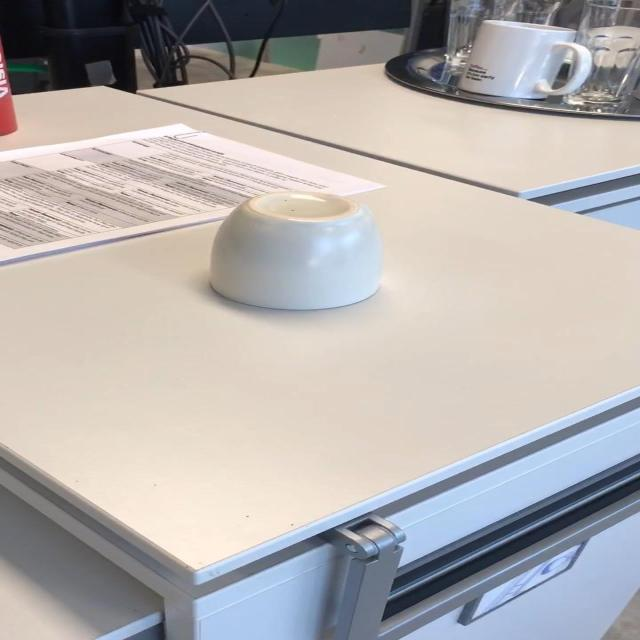cup: (210, 191, 384, 309)
